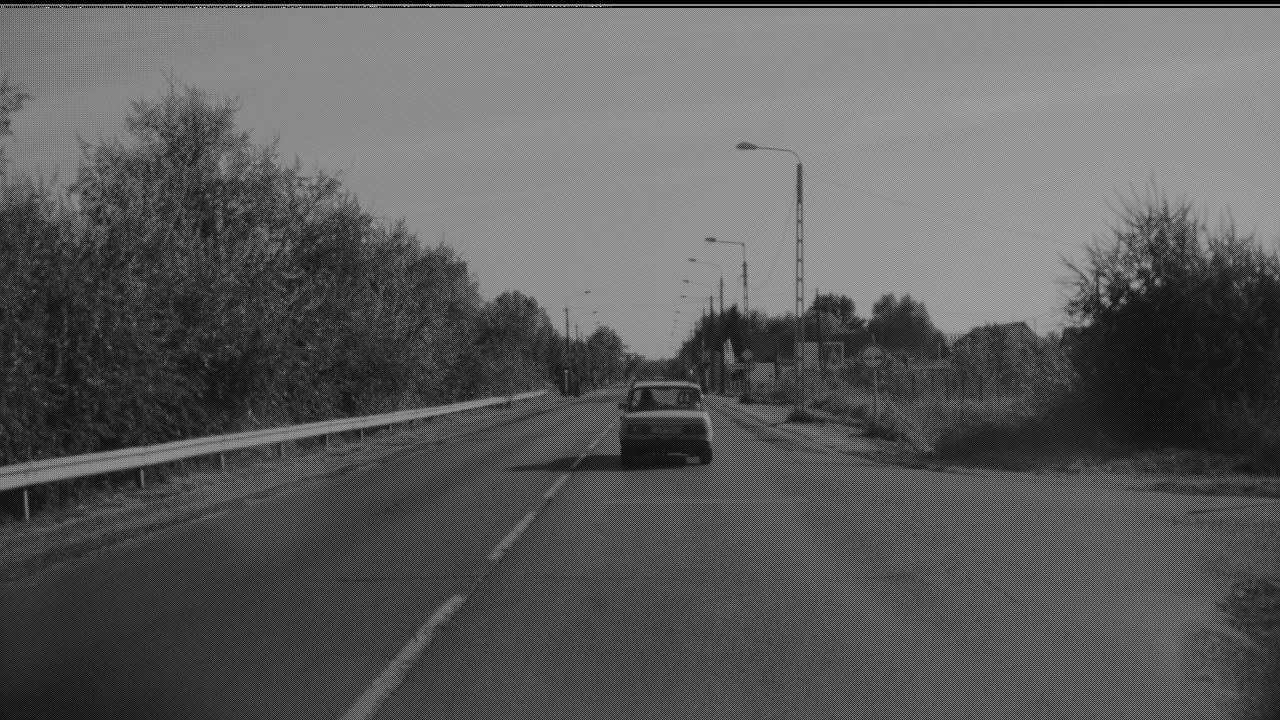pole: (793, 161, 806, 417)
